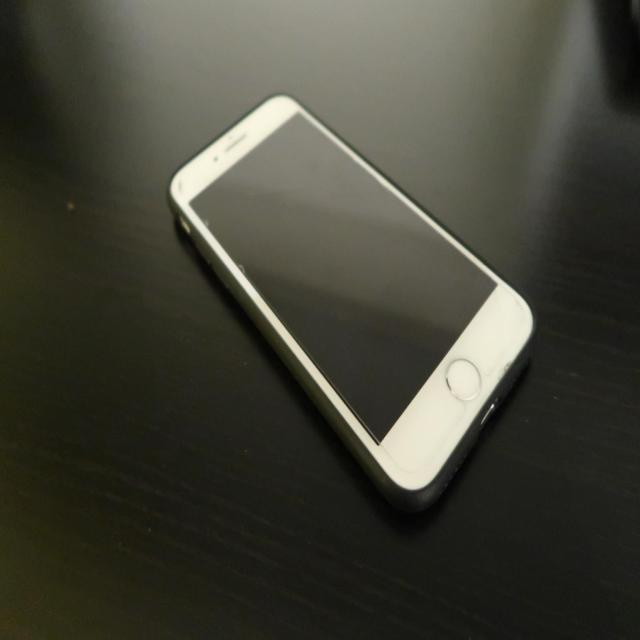Phone: (152, 68, 569, 525)
